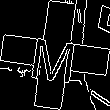M_N: (28, 27, 82, 83)
